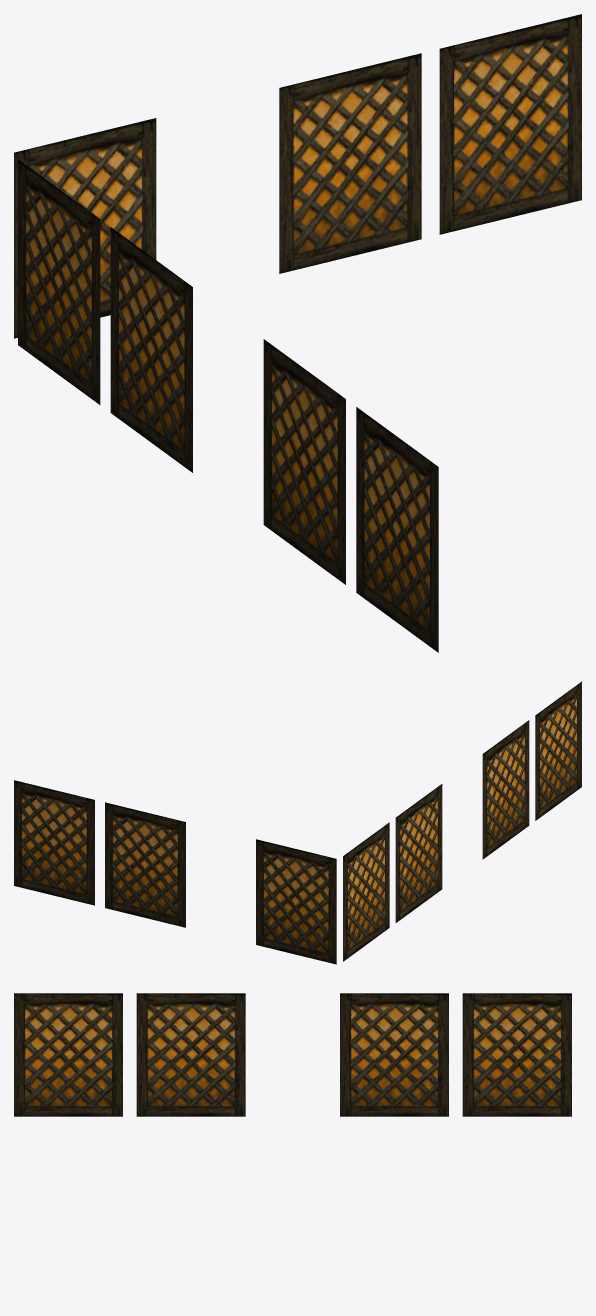
Rendered from LAKETOWN_EXTERIOR_PS_LT_WINDOWS13388.fbx.
3 views of the same model, one above another, from view 1: azimuth 30°, elevation 25°; view 2: azimuth 150°, elevation 25°; view 3: azimuth 270°, elevation 25° (orthographic). The views are drawn at different scales.
Parts seen in each view (by area): view 1: LAKETOWN_EXTERIOR_PS_LT_WINDOWS13388; view 2: LAKETOWN_EXTERIOR_PS_LT_WINDOWS13388; view 3: LAKETOWN_EXTERIOR_PS_LT_WINDOWS13388.
Part boxes in pixels (box(x1,y1,x2,y2)): LAKETOWN_EXTERIOR_PS_LT_WINDOWS13388: box(14, 14, 581, 652); LAKETOWN_EXTERIOR_PS_LT_WINDOWS13388: box(14, 681, 581, 964); LAKETOWN_EXTERIOR_PS_LT_WINDOWS13388: box(14, 993, 571, 1116).
Size of the model in its own units: 42102 by 13100 by 54615.
1 material, 1 textured.
